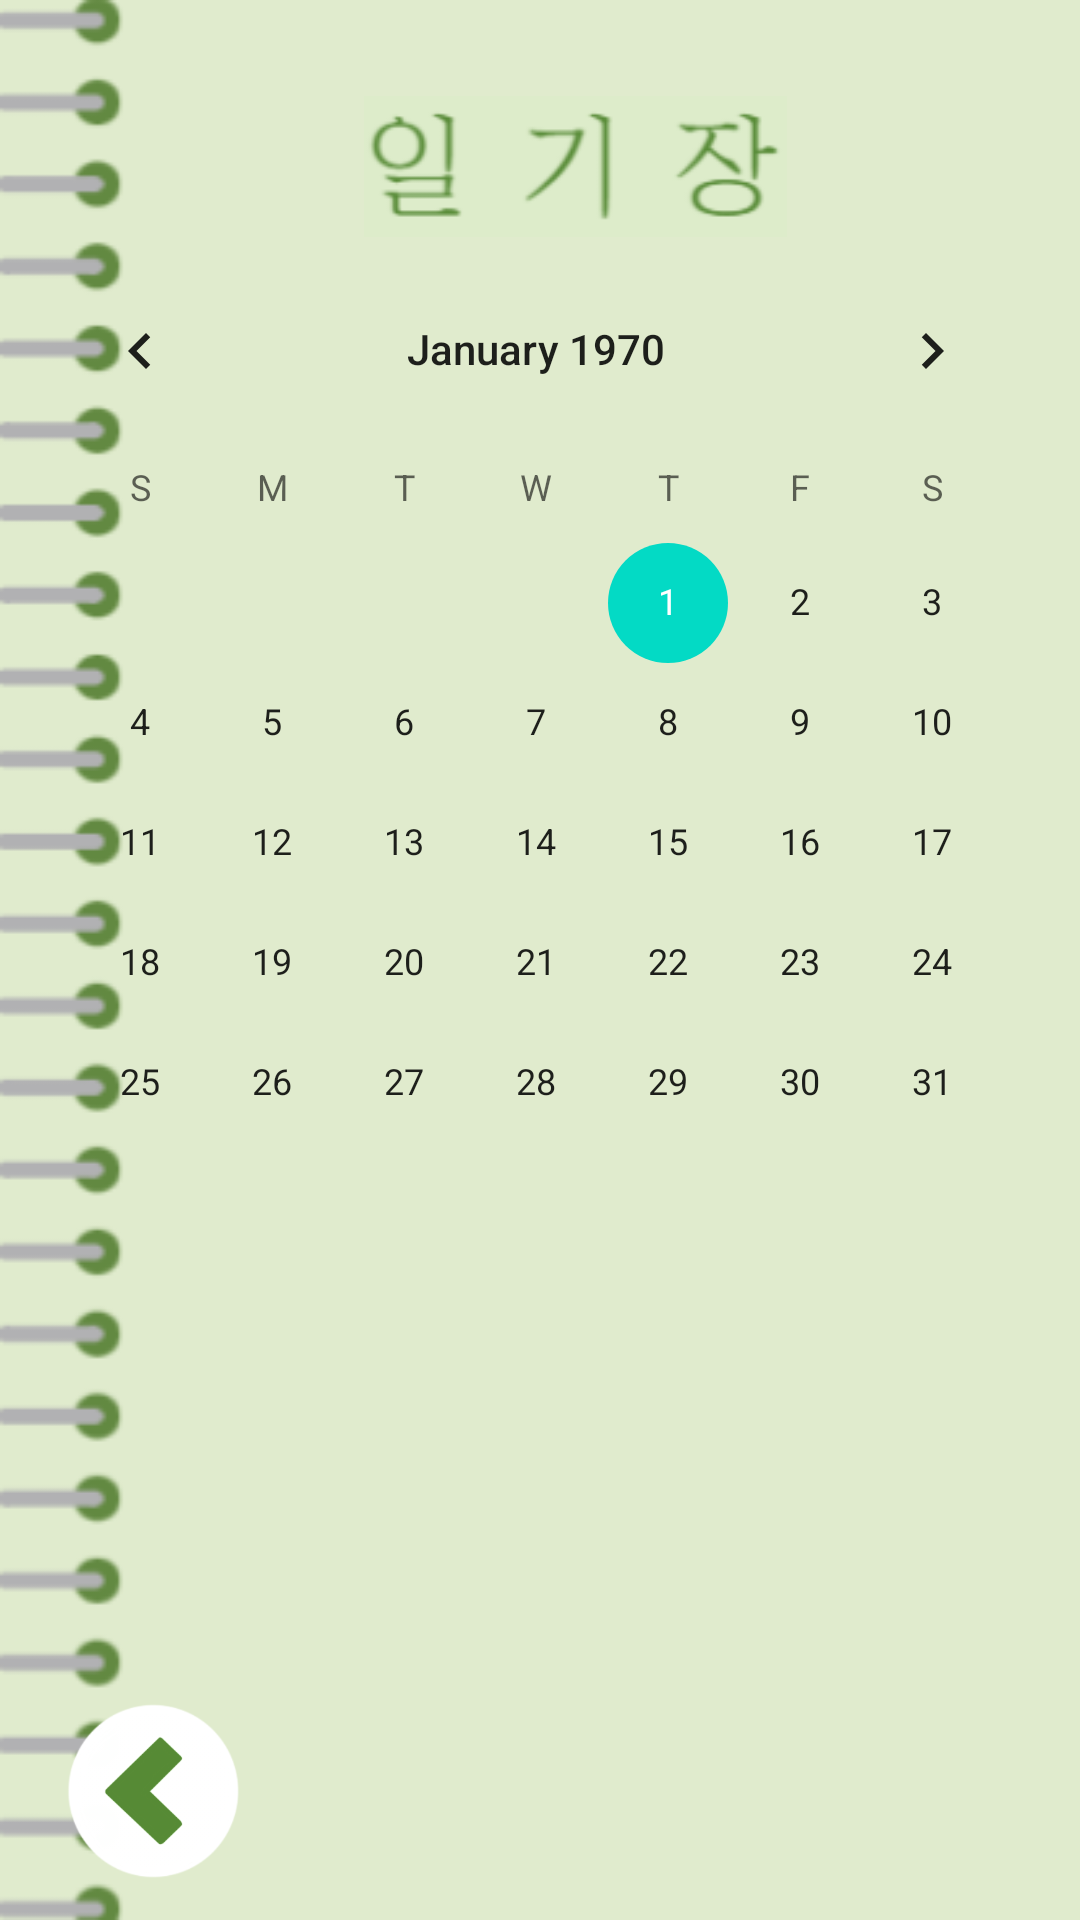

Point at icon controls on the screen. Image size 1080px x 1920px, points as (x=x, y=y).
back: (x=139, y=1791)
